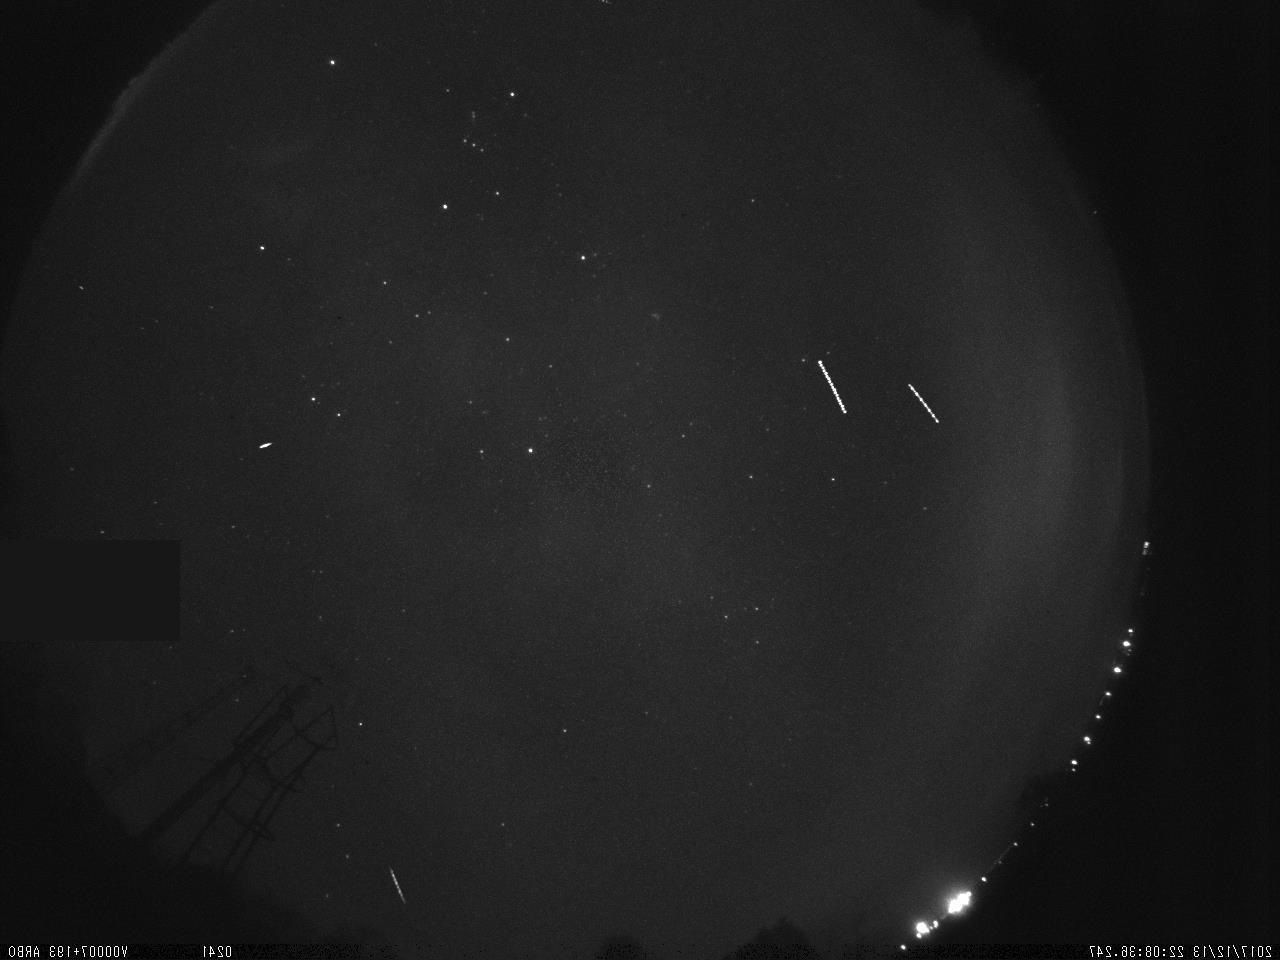meteor: (255, 435, 275, 456)
satelite: (810, 346, 853, 424), (903, 372, 948, 434), (384, 860, 410, 908)
